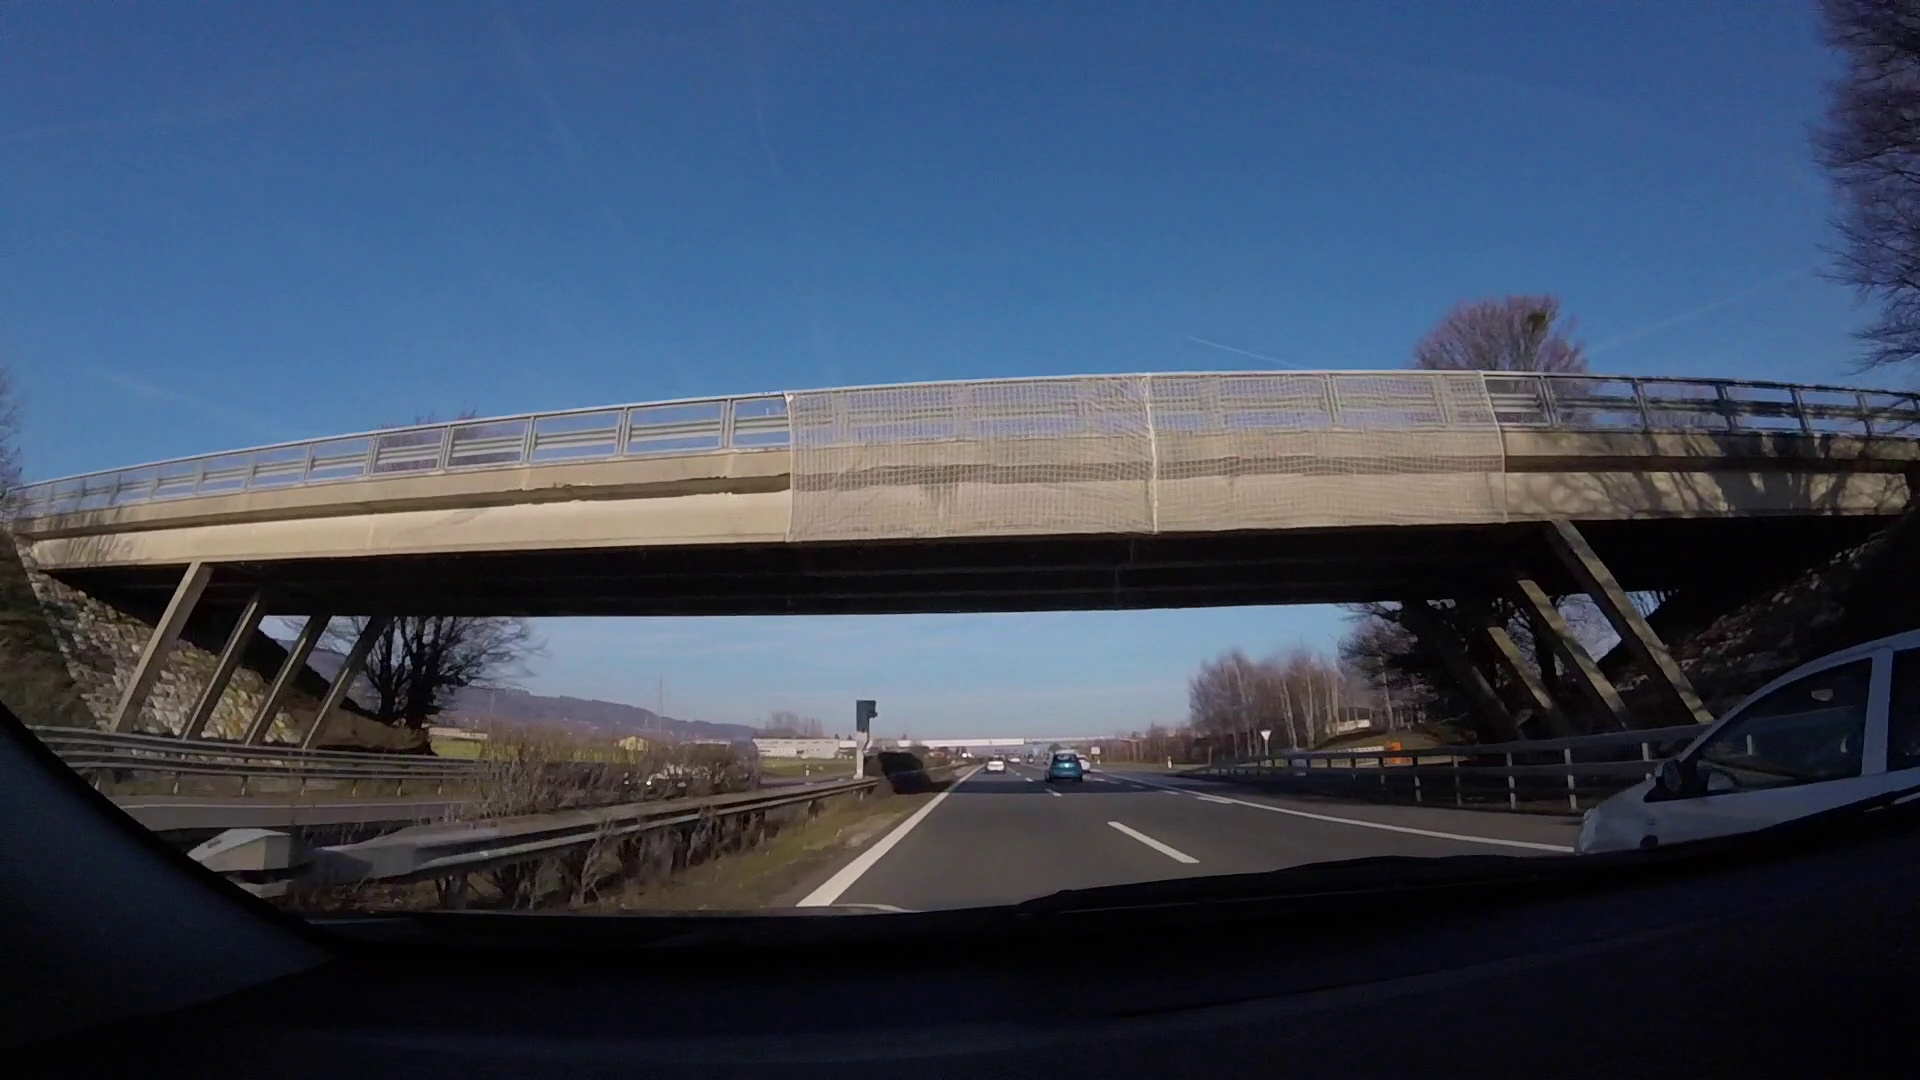radar: (855, 698, 880, 781)
